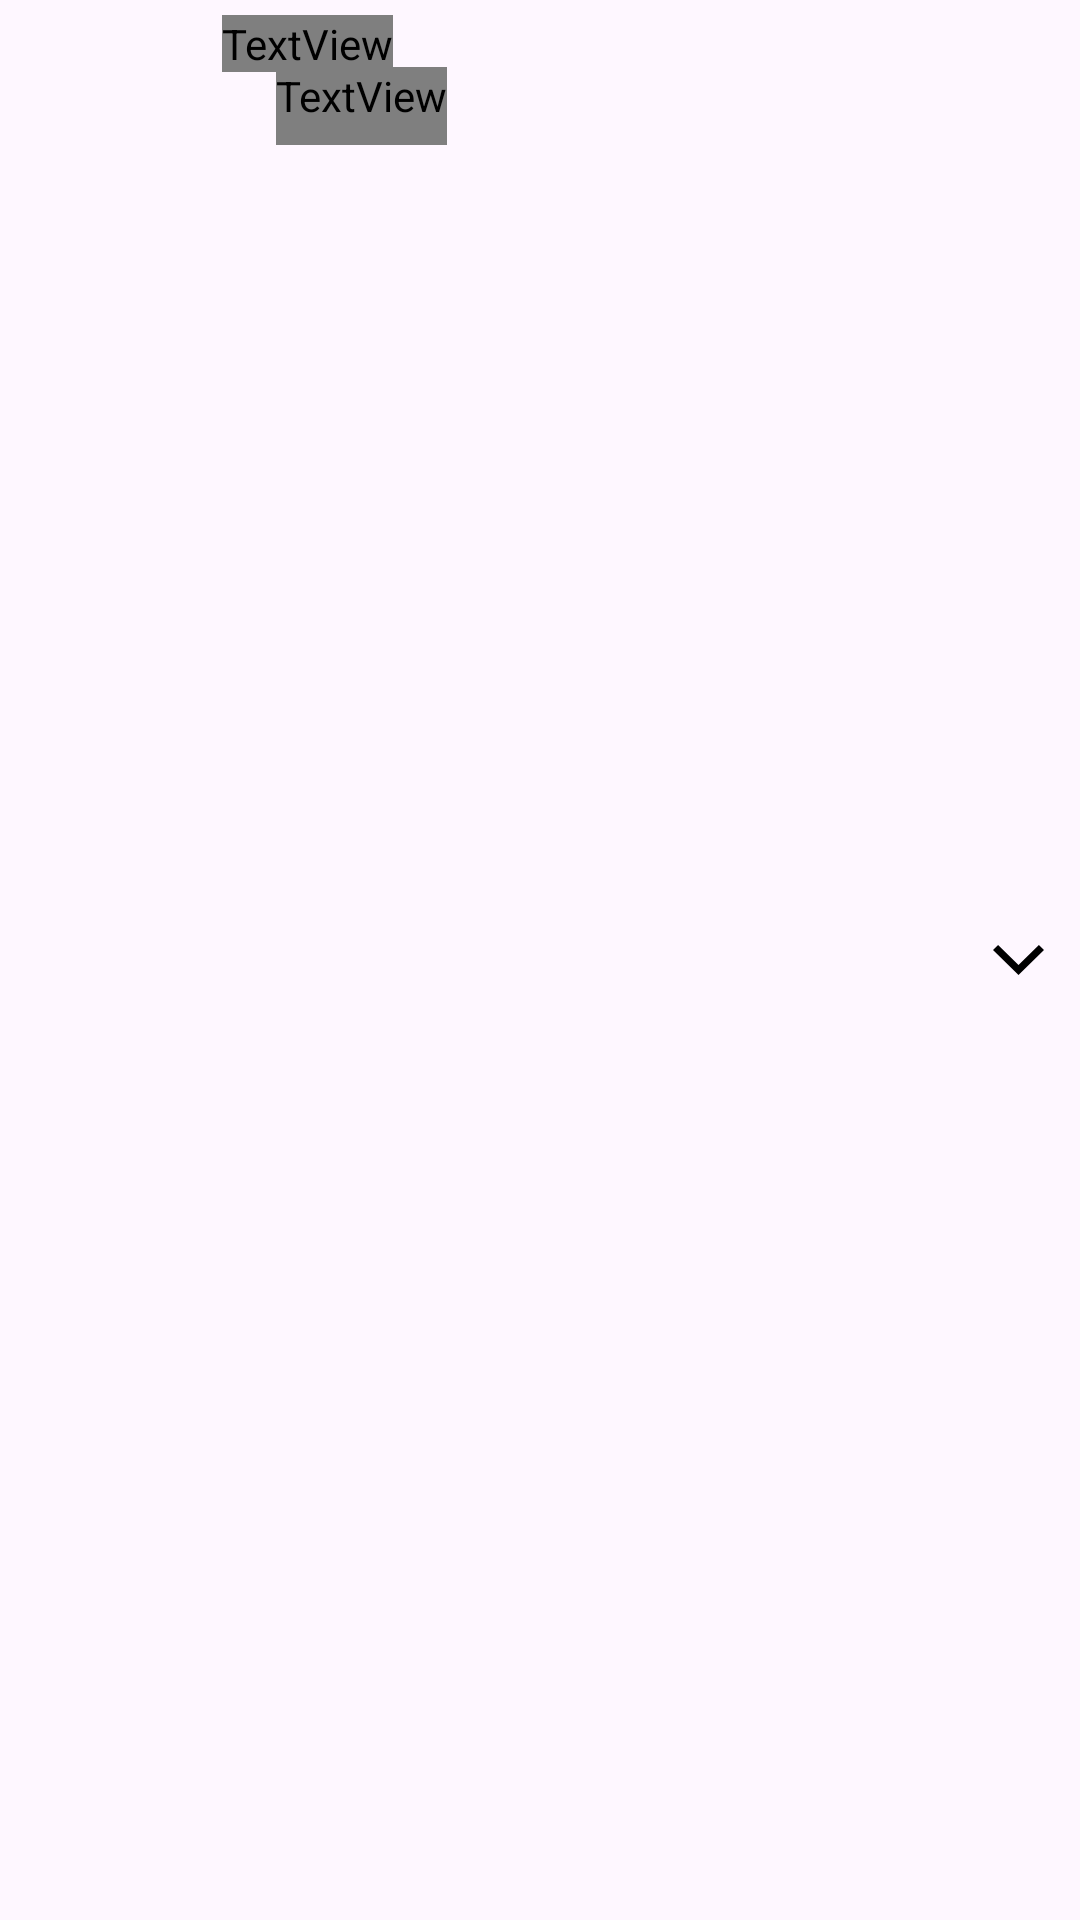

Screen size 1080×1920. Icon name, then its center in pixels as [x,y]:
chevron: [1018,960]
